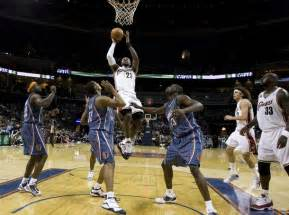basketball: (110, 28, 123, 41)
